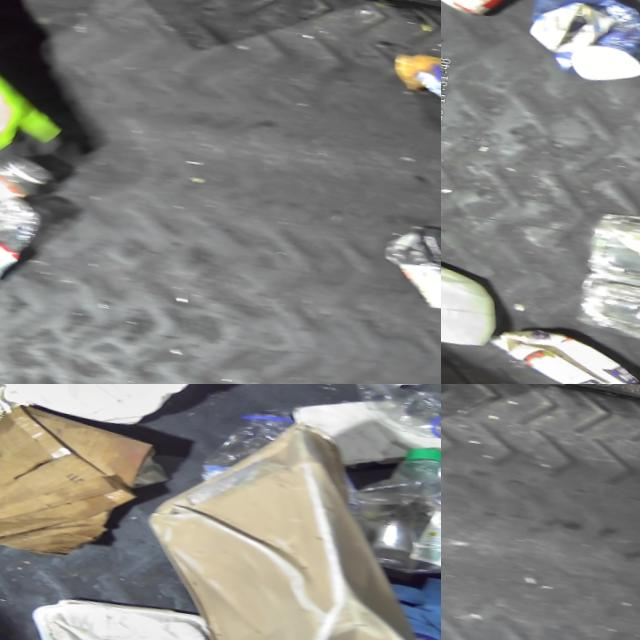can: (441, 0, 534, 26)
milk_jug: (0, 384, 247, 449), (441, 245, 502, 351)
non_white_jug: (502, 0, 640, 93)
plastic_bottle: (335, 435, 441, 590), (194, 400, 293, 492), (325, 384, 441, 452)
